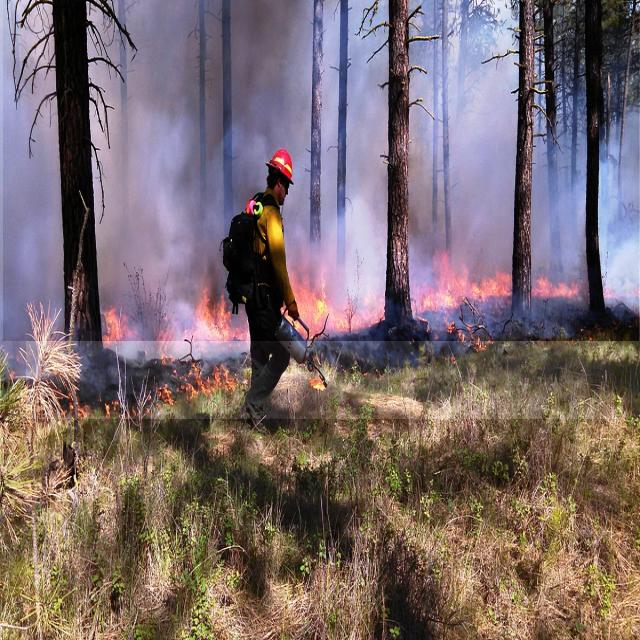Fire: (26, 268, 640, 419)
Smoke: (3, 0, 639, 341)
